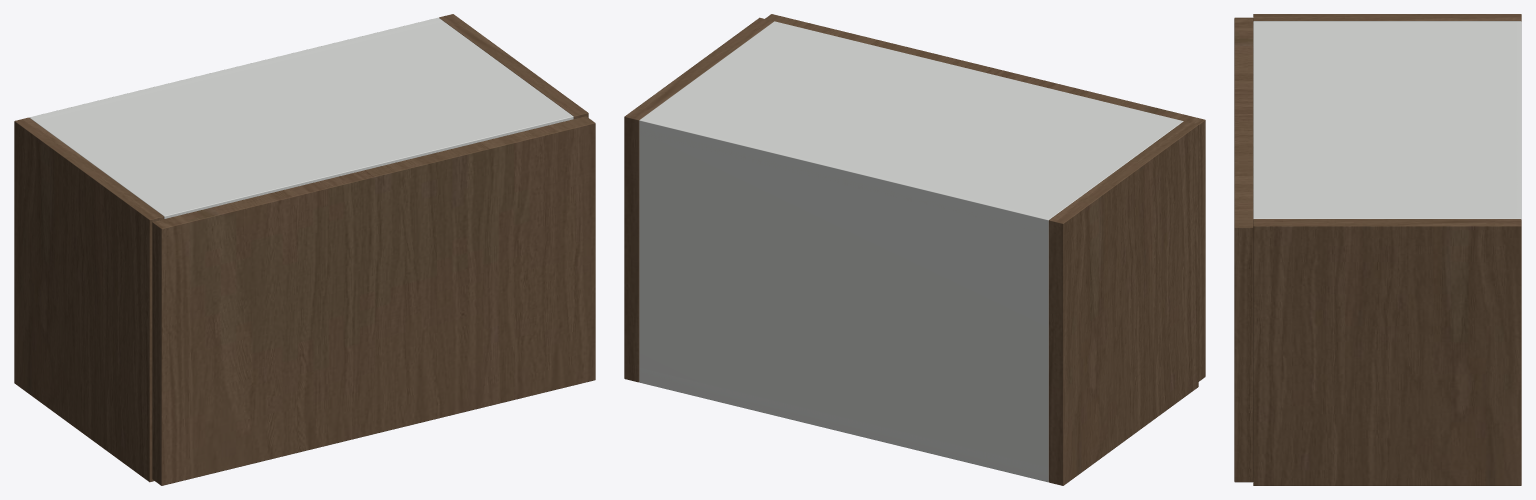
File: oppein-pb-mso-w2112.glb
3 renders of one model, left to right at view 1: azimuth 30°, elevation 25°; view 2: azimuth 150°, elevation 25°; view 3: azimuth 270°, elevation 25°, orthographic.
Parts seen in each view (by area): view 1: Door, Cabinet top, Cabinet side, Cabinet back, Cabinet side.001; view 2: Cabinet back, Cabinet top, Cabinet side, Cabinet side.001, Door, Cabinet bottom; view 3: Cabinet side.001, Cabinet top, Door, Cabinet back, Cabinet side.
Boxes of the visible parts, left/top/right/bottom form: Door: left=152, top=116, right=595, bottom=485; Cabinet top: left=34, top=18, right=573, bottom=218; Cabinet side: left=14, top=117, right=164, bottom=482; Cabinet back: left=29, top=17, right=442, bottom=121; Cabinet side.001: left=439, top=14, right=588, bottom=118; Cabinet back: left=639, top=116, right=1053, bottom=482; Cabinet top: left=639, top=21, right=1183, bottom=234; Cabinet side: left=1048, top=121, right=1198, bottom=485; Cabinet side.001: left=624, top=17, right=773, bottom=382; Door: left=765, top=14, right=1205, bottom=381; Cabinet bottom: left=639, top=368, right=1048, bottom=481; Cabinet side.001: left=1253, top=219, right=1521, bottom=485; Cabinet top: left=1253, top=21, right=1520, bottom=218; Door: left=1234, top=17, right=1253, bottom=482; Cabinet back: left=1510, top=21, right=1521, bottom=219; Cabinet side: left=1253, top=14, right=1521, bottom=21.
Bounding box in the file's own units: 0.5334 × 0.3048 × 0.3048.
2 materials, 1 textured.
